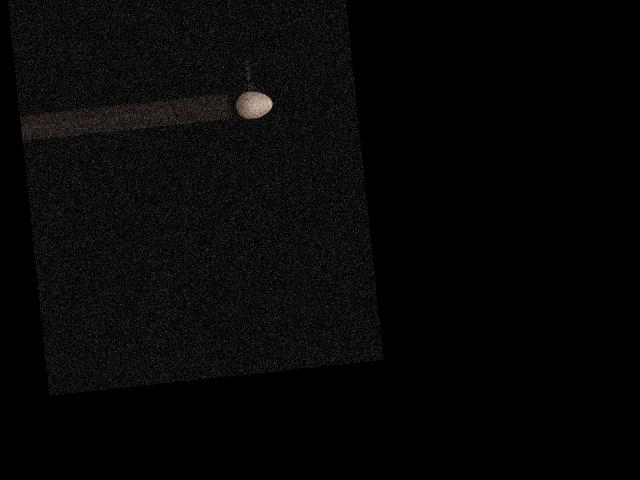egg: (234, 90, 274, 120)
